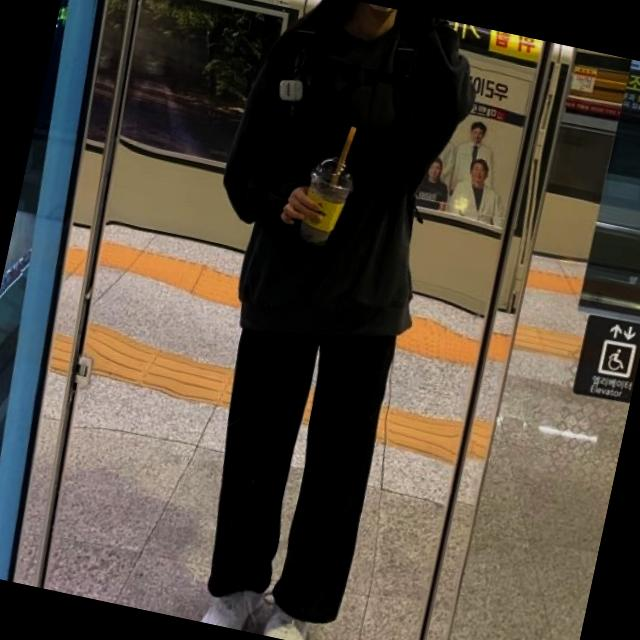mtm: (191, 0, 484, 360)
slacks: (185, 303, 401, 632)
